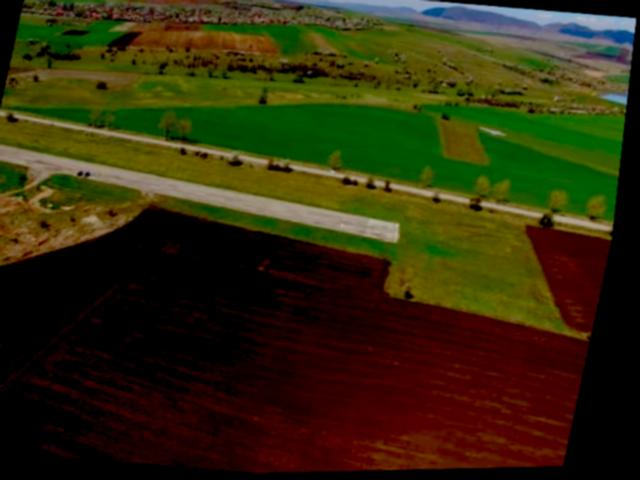uav: (475, 118, 518, 148)
